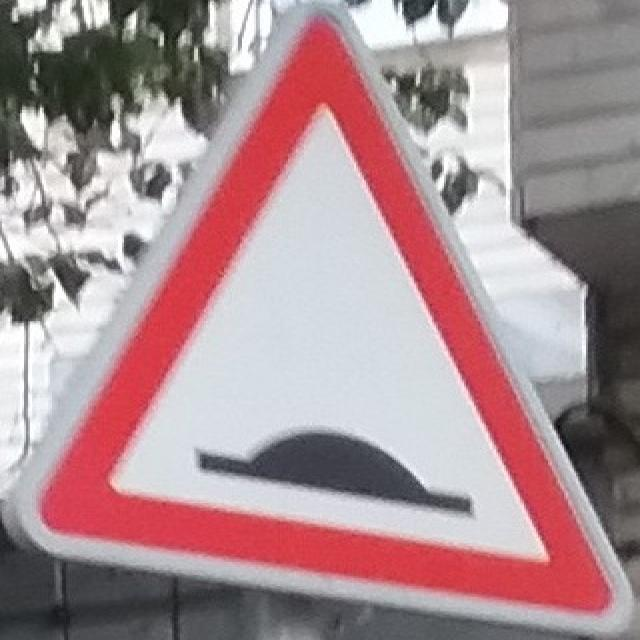HUMP_OR_ROUGH_ROAD: (18, 16, 623, 629)
